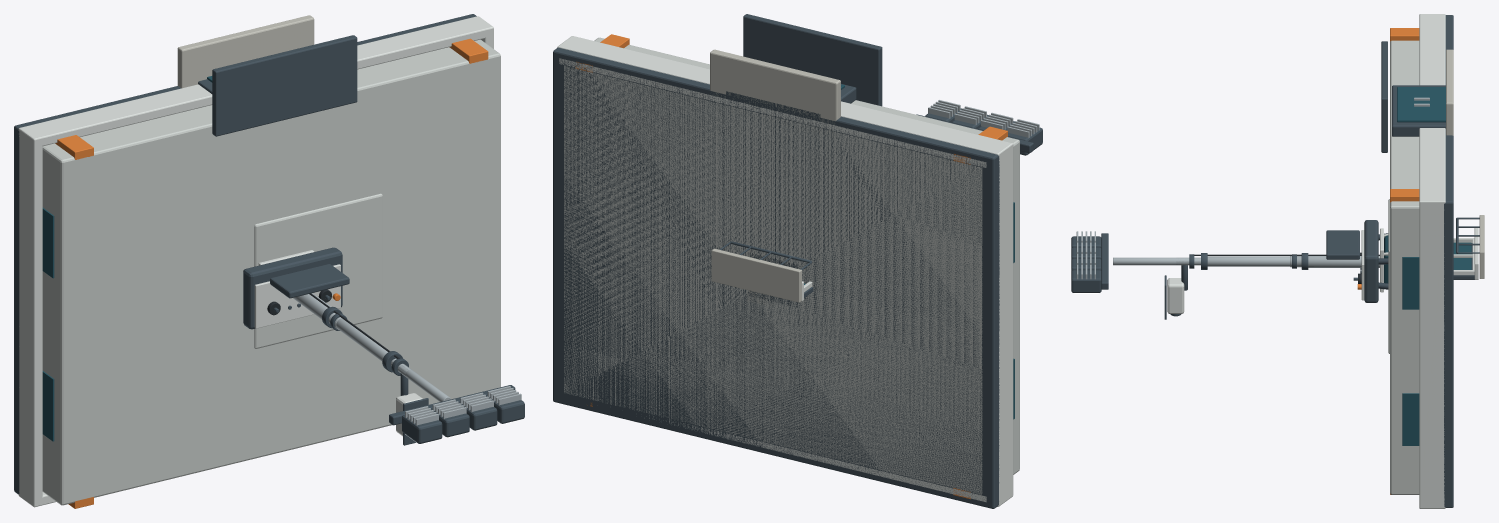
Rendered from training-props-v2.glb.
3 renders of one model, left to right at view 1: azimuth 30°, elevation 25°; view 2: azimuth 150°, elevation 25°; view 3: azimuth 270°, elevation 25°, orthographic. The views are drawn at different scales.
Visible parts, largest first — view 1: V2_BuildingFloor_V2_Facade, V2_BuildingRoof_V2_IvoryPowdercoat, V2_BuildingRoof_V2_Facade, V2_EntranceCanopy, V2_EntranceStep, V2_ControlStation_V2_Graphite.001, V2_LightTower_V2_BrushedAluminium, V2_BuildingRoof_V2_Graphite.001, V2_LightTower_V2_Graphite.001, V2_ControlStation_V2_IvoryPowdercoat, V2_BuildingFloor_V2_OpticalGlass, V2_BuildingFloor_V2_SafetyOrange (+1 smaller); view 2: V2_BuildingFloor_V2_Facade, V2_BuildingRoof_V2_Graphite.001, V2_BuildingRoof_V2_IvoryPowdercoat, V2_EntranceCanopy, V2_EntranceStep, V2_BuildingFloor_V2_IvoryPowdercoat, V2_BalconyFloor, V2_LightTower_V2_BrushedAluminium, V2_LightTower_V2_Graphite.001, V2_EntranceFrame, V2_BuildingFloor_V2_SafetyOrange; view 3: V2_BuildingRoof_V2_IvoryPowdercoat, V2_BuildingFloor_V2_Facade, V2_BuildingRoof_V2_Graphite.001, V2_LightTower_V2_BrushedAluminium, V2_ControlStation_V2_Graphite.001, V2_LightTower_V2_Graphite.001, V2_BuildingFloor_V2_OpticalGlass, V2_EntranceDoor, V2_EntranceFrame, V2_BuildingFloor_V2_SafetyOrange, V2_EntranceCanopy, V2_EntranceStep (+2 smaller).
Part boxes in pixels (x1,y1,x2,y2): V2_BuildingFloor_V2_Facade: [42, 39, 500, 505]; V2_BuildingRoof_V2_IvoryPowdercoat: [18, 16, 493, 507]; V2_BuildingRoof_V2_Facade: [254, 193, 382, 348]; V2_EntranceCanopy: [212, 35, 357, 136]; V2_EntranceStep: [177, 15, 314, 88]; V2_ControlStation_V2_Graphite.001: [243, 247, 349, 329]; V2_LightTower_V2_BrushedAluminium: [293, 293, 521, 425]; V2_BuildingRoof_V2_Graphite.001: [14, 14, 476, 494]; V2_LightTower_V2_Graphite.001: [322, 306, 524, 443]; V2_ControlStation_V2_IvoryPowdercoat: [254, 264, 340, 328]; V2_BuildingFloor_V2_OpticalGlass: [42, 207, 54, 441]; V2_BuildingFloor_V2_SafetyOrange: [55, 38, 488, 508]; V2_BuildingFloor_V2_Facade: [564, 37, 1019, 494]; V2_BuildingRoof_V2_Graphite.001: [553, 47, 999, 508]; V2_BuildingRoof_V2_IvoryPowdercoat: [557, 36, 1013, 506]; V2_EntranceCanopy: [743, 14, 882, 106]; V2_EntranceStep: [710, 49, 840, 137]; V2_BuildingFloor_V2_IvoryPowdercoat: [559, 58, 986, 502]; V2_BalconyFloor: [711, 248, 801, 302]; V2_LightTower_V2_BrushedAluminium: [928, 100, 1039, 137]; V2_LightTower_V2_Graphite.001: [748, 108, 1042, 307]; V2_EntranceFrame: [726, 84, 856, 122]; V2_BuildingFloor_V2_SafetyOrange: [575, 34, 1007, 499]; V2_BuildingRoof_V2_IvoryPowdercoat: [1419, 14, 1445, 508]; V2_BuildingFloor_V2_Facade: [1390, 40, 1419, 494]; V2_BuildingRoof_V2_Graphite.001: [1444, 15, 1453, 507]; V2_LightTower_V2_BrushedAluminium: [1076, 231, 1379, 279]; V2_ControlStation_V2_Graphite.001: [1326, 220, 1388, 302]; V2_LightTower_V2_Graphite.001: [1071, 233, 1308, 292]; V2_BuildingFloor_V2_OpticalGlass: [1402, 257, 1419, 445]; V2_EntranceDoor: [1397, 87, 1445, 122]; V2_EntranceFrame: [1392, 85, 1445, 136]; V2_BuildingFloor_V2_SafetyOrange: [1390, 28, 1419, 494]; V2_EntranceCanopy: [1381, 41, 1387, 152]; V2_EntranceStep: [1446, 49, 1453, 135].
Size of the model in its own units: 5.02 by 4.31 by 4.67.
